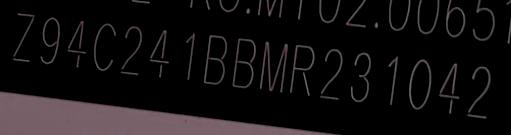letter: (465, 63, 497, 120), (257, 41, 289, 94), (436, 60, 465, 117), (200, 31, 230, 86), (316, 47, 346, 102), (373, 51, 403, 106), (405, 56, 435, 111), (288, 43, 316, 98), (230, 36, 257, 89), (146, 25, 172, 80), (91, 20, 117, 73), (118, 23, 143, 78), (347, 48, 372, 103), (11, 10, 36, 63), (175, 28, 199, 83), (37, 16, 62, 66), (64, 18, 87, 68)
